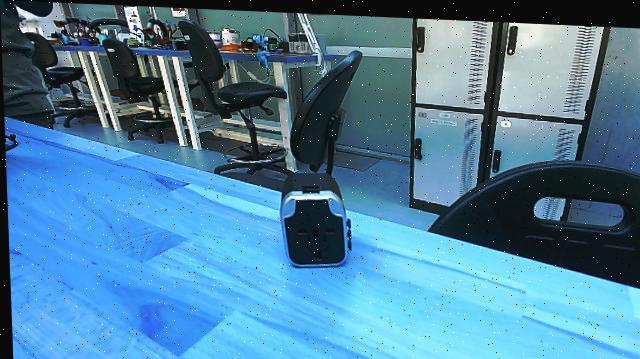adapter: (272, 166, 354, 272)
